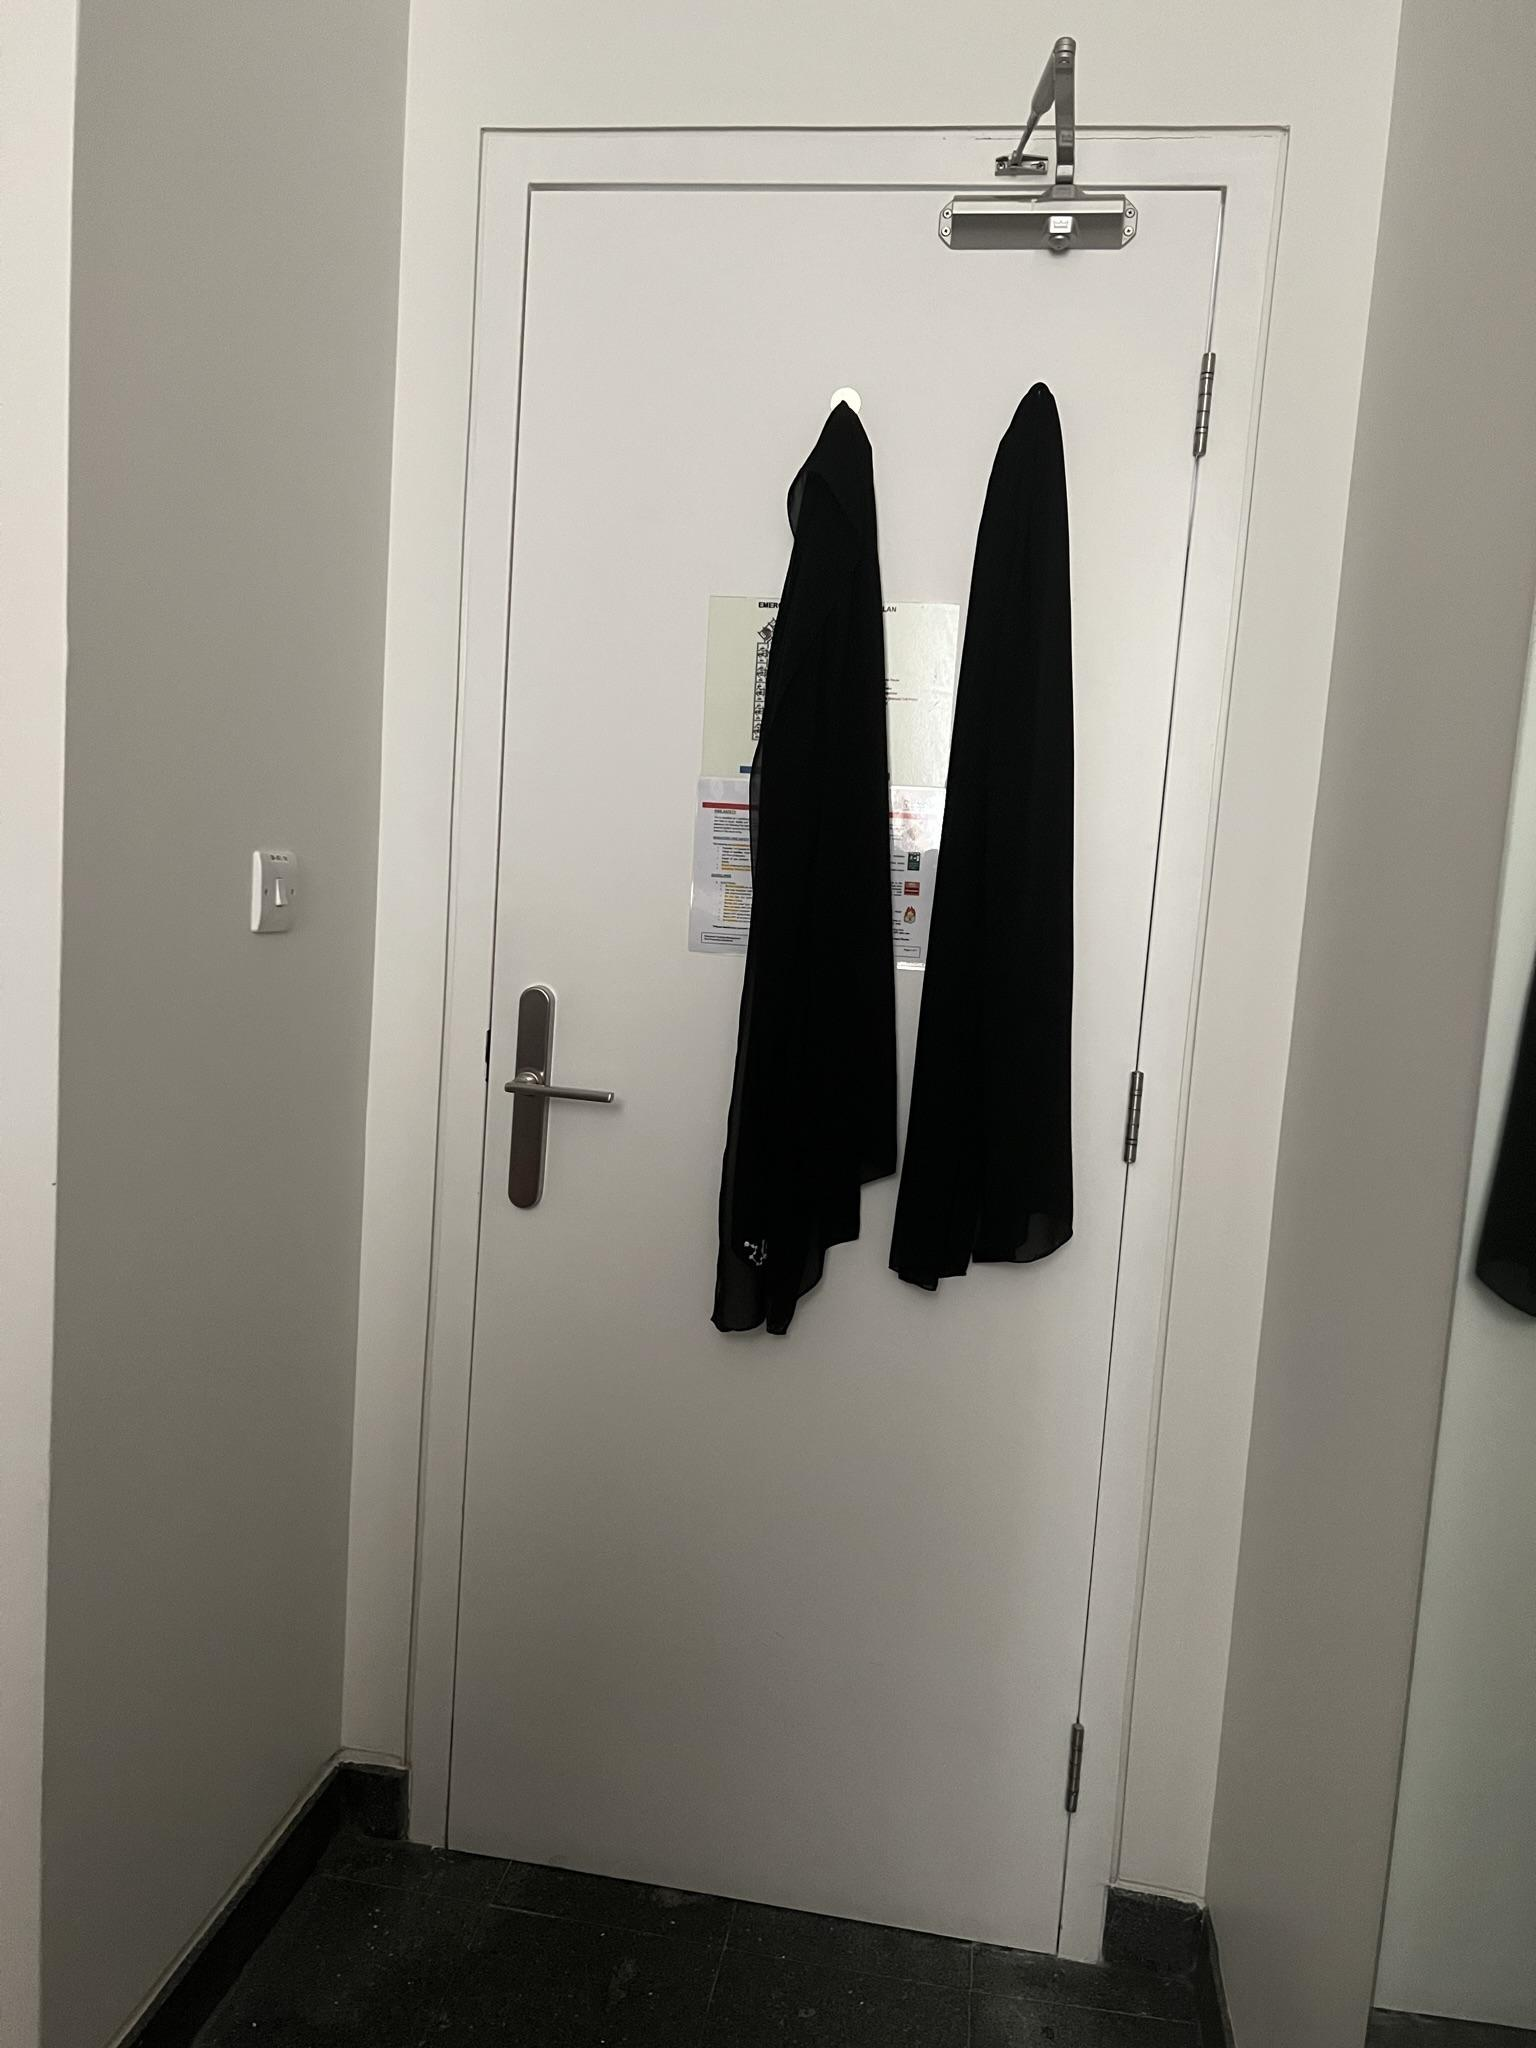door: (497, 171, 1121, 1946)
handle: (513, 974, 620, 1211)
